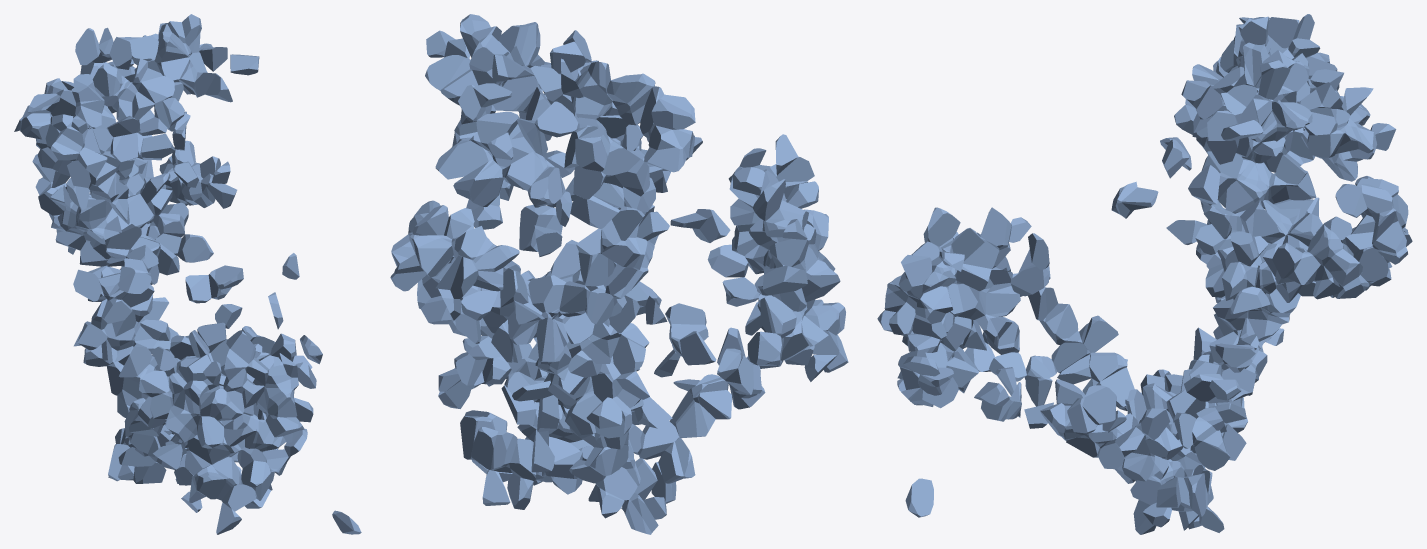
File: cow_2pct_voromesh.glb
3 views of the same model, side by side, from view 1: azimuth 30°, elevation 25°; view 2: azimuth 150°, elevation 25°; view 3: azimuth 270°, elevation 25° (orthographic). The views are drawn at different scales.
Parts seen in each view (by area): view 1: cow_noise_2pct_voromesh.obj; view 2: cow_noise_2pct_voromesh.obj; view 3: cow_noise_2pct_voromesh.obj.
Part boxes in pixels (box(x1,y1,x2,y2)): cow_noise_2pct_voromesh.obj: box(14, 14, 361, 534); cow_noise_2pct_voromesh.obj: box(390, 14, 848, 534); cow_noise_2pct_voromesh.obj: box(877, 14, 1412, 534).
Bounding box in the file's own units: 0.5883 × 1.05 × 1.08.
